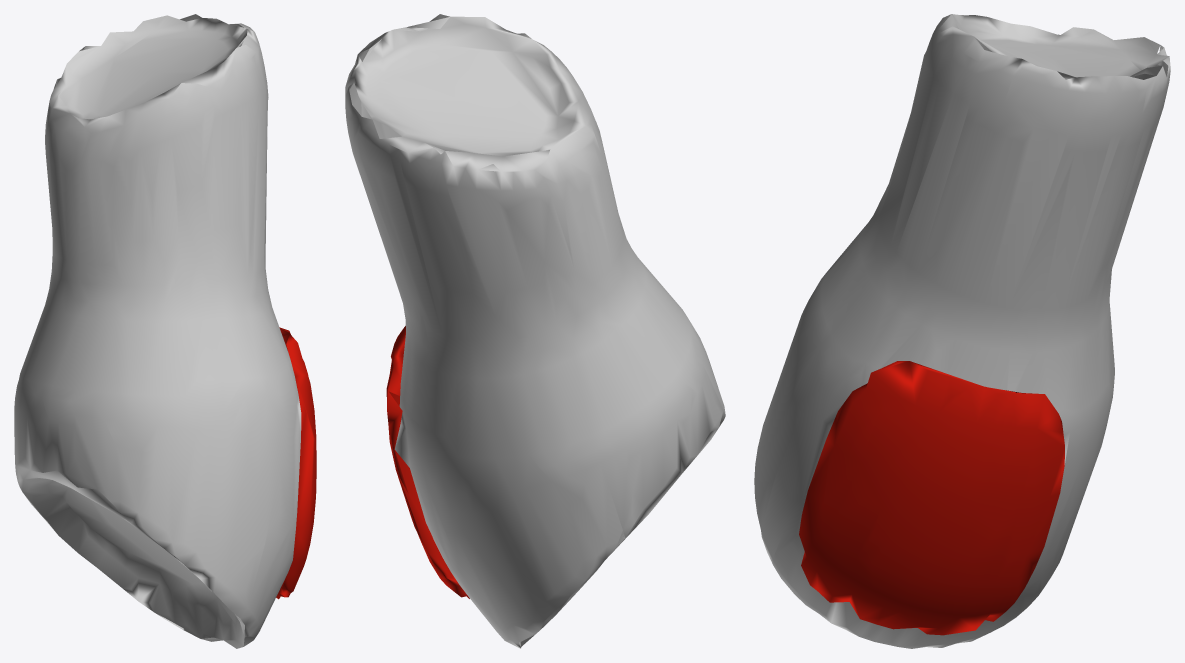
File: Nao6_Left_Arm_Forearm.obj
3 views of the same model, side by side, from view 1: azimuth 30°, elevation 25°; view 2: azimuth 150°, elevation 25°; view 3: azimuth 270°, elevation 25° (orthographic). The views are drawn at different scales.
Parts seen in each view (by area): view 1: Nao6_Left_Arm_Forearm; view 2: Nao6_Left_Arm_Forearm; view 3: Nao6_Left_Arm_Forearm.
Part boxes in pixels (bbox=[...]): Nao6_Left_Arm_Forearm: bbox=[14, 14, 316, 648]; Nao6_Left_Arm_Forearm: bbox=[345, 14, 725, 648]; Nao6_Left_Arm_Forearm: bbox=[754, 14, 1170, 648].
Bounding box in the file's own units: 0.4377 × 0.9069 × 0.5319.
